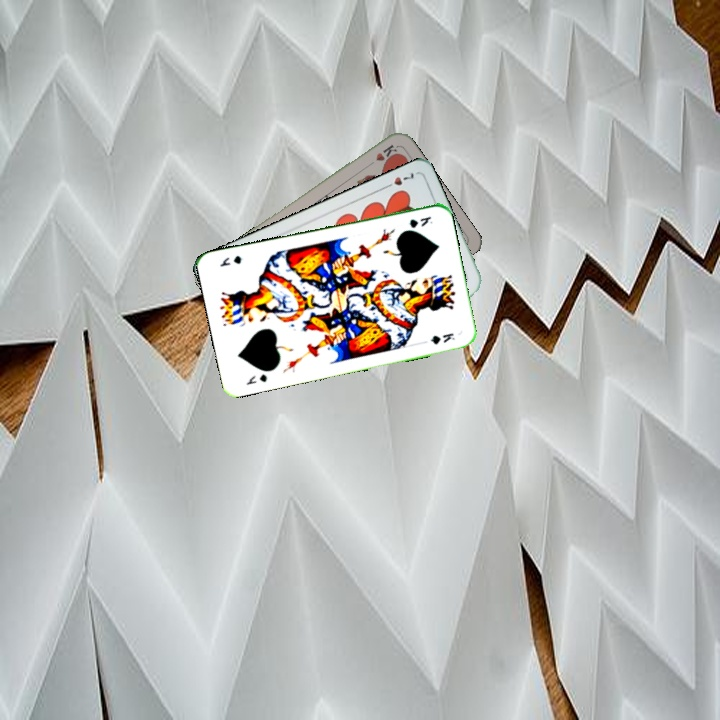GK: (405, 212, 433, 231), (242, 370, 269, 388)
H7: (380, 168, 417, 191)
HK: (363, 141, 400, 170)
